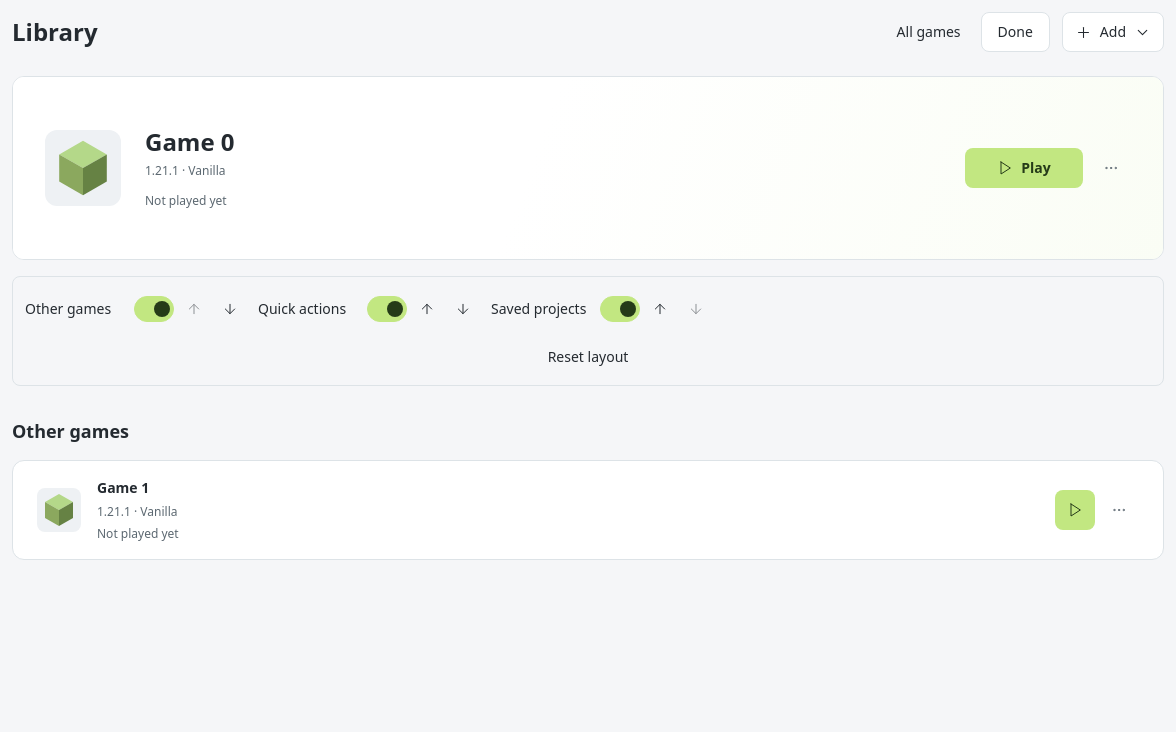
it: undoes the most recent archive without reverting the preceding group edit
Click the button with class "home-organize": point(929, 32) [889,16,969,48]
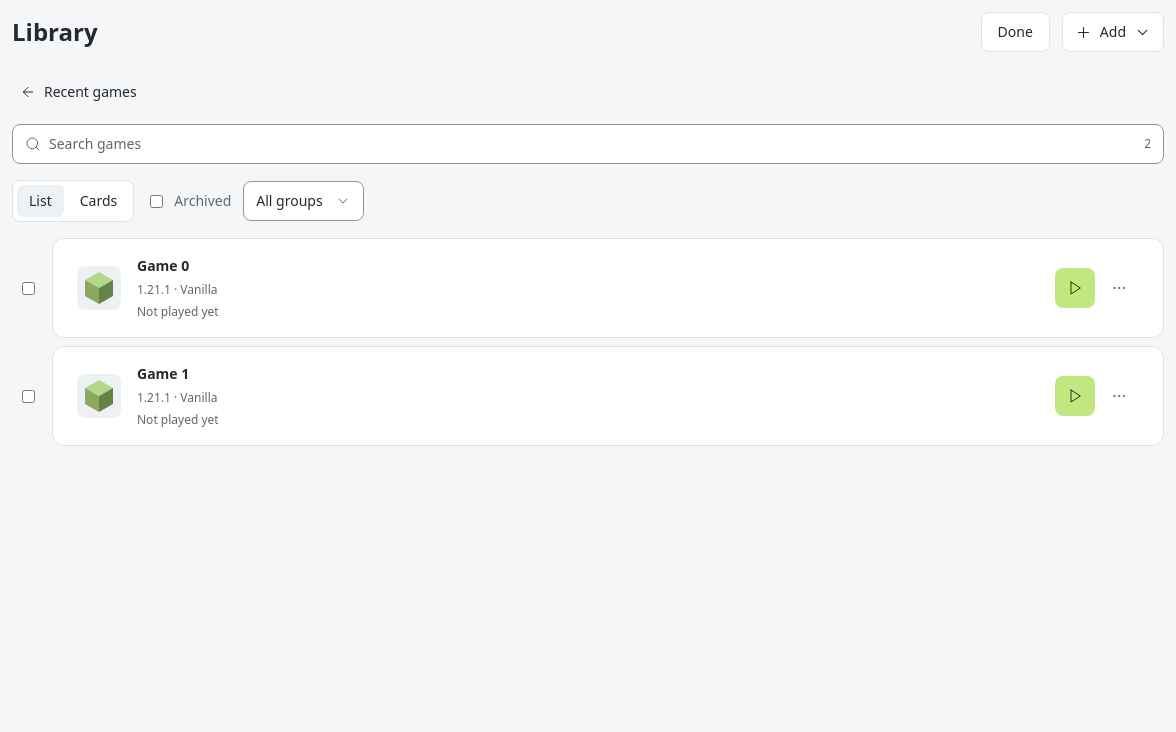
Click the checkbox named "Select Game 0": point(28, 288) [22,282,35,294]
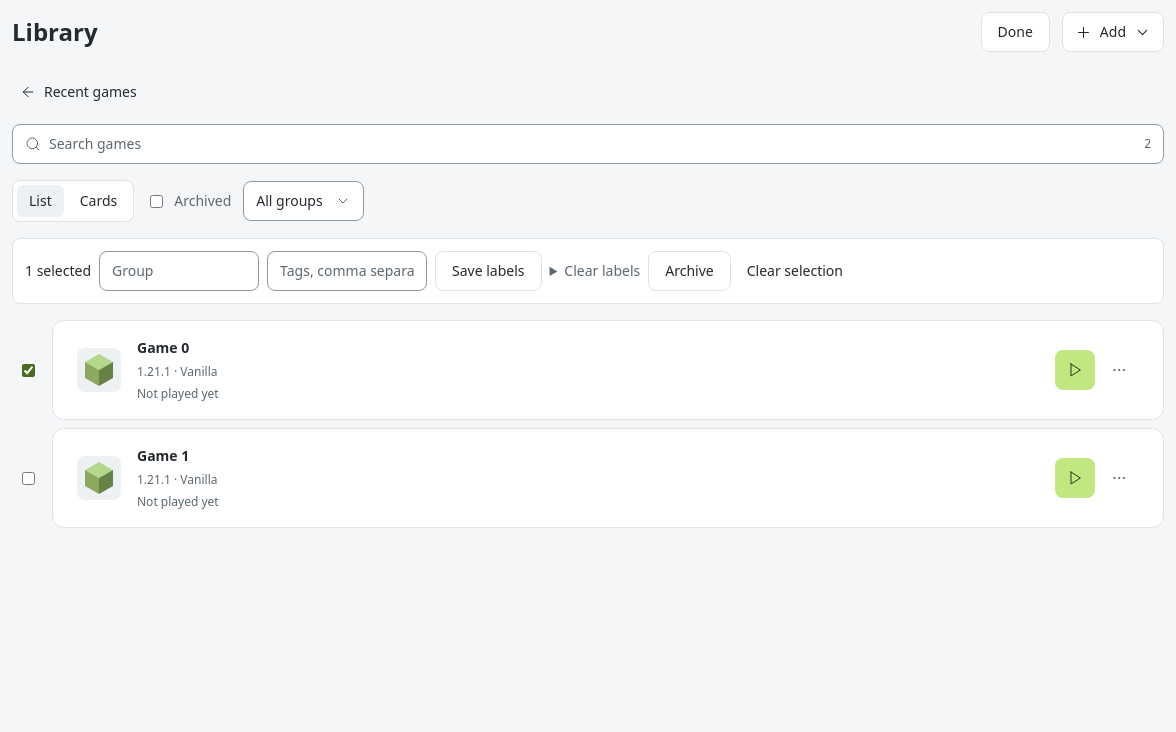
In the field named "Group": point(179, 271) [99,251,259,291], type "Friends"
Click the button with class "secondary-button" showing "Save labels": point(488, 271) [435,251,542,291]
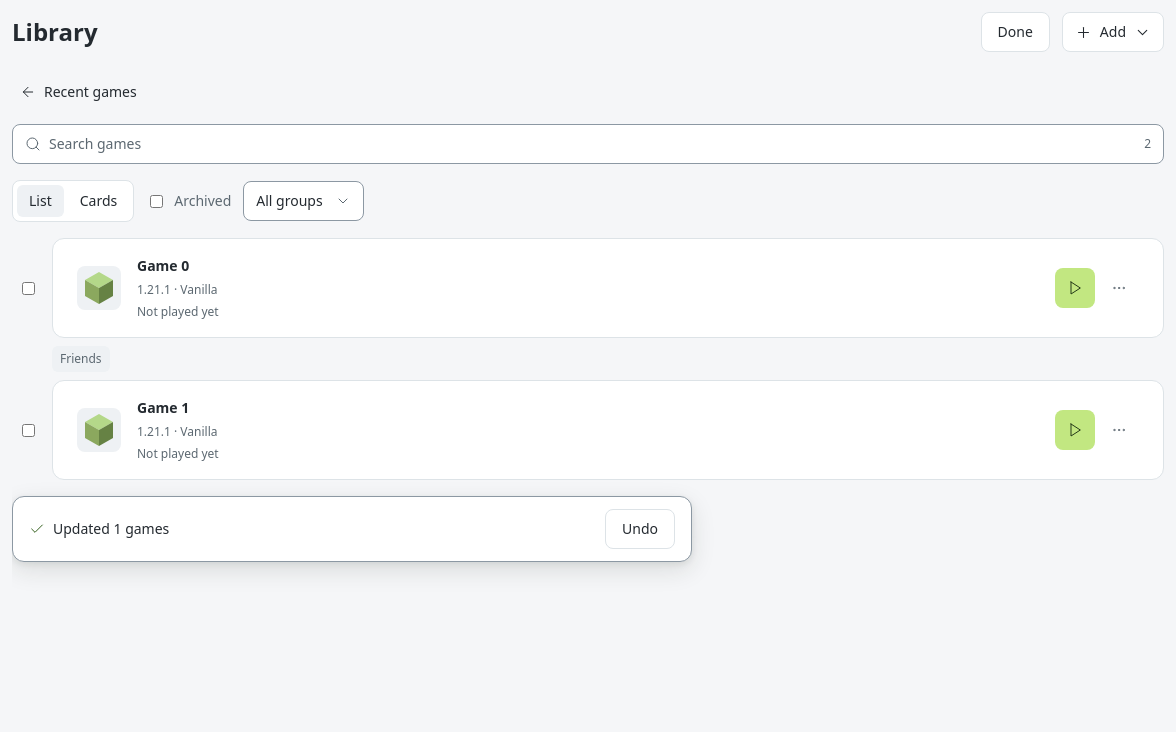
Click the checkbox named "Select Game 0": point(28, 288) [22,282,35,294]
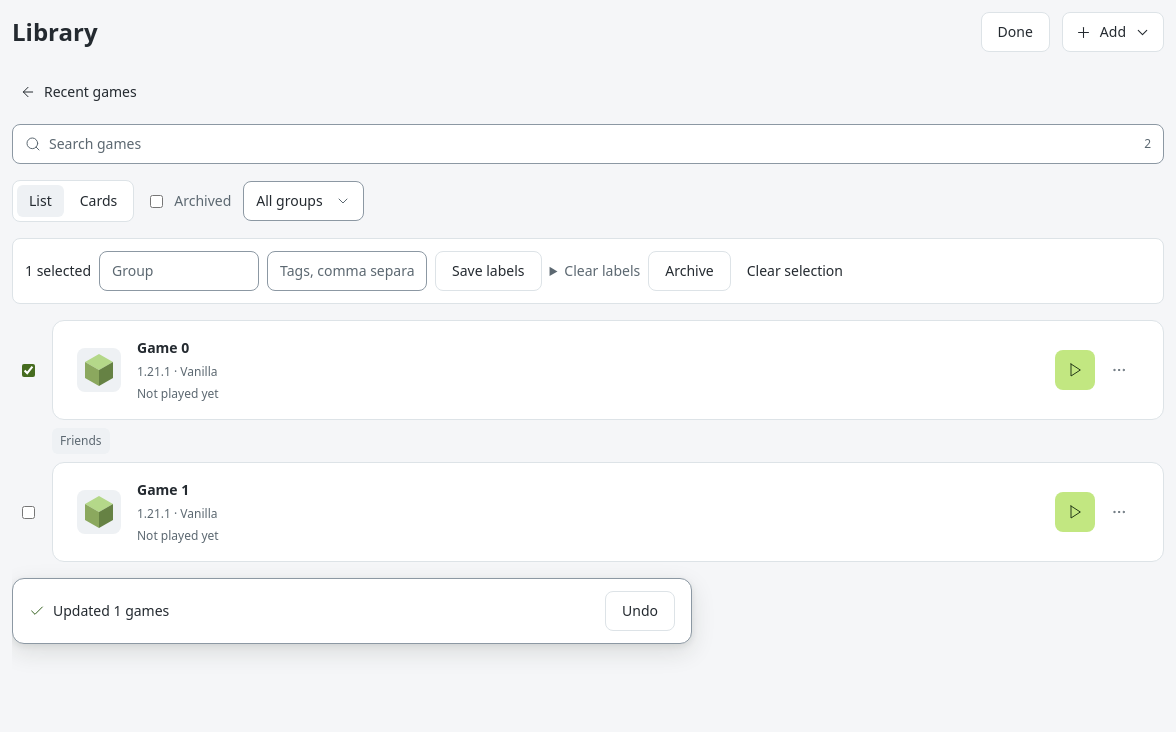
Click the button with class "secondary-button" showing "Archive": point(690, 271) [648,251,731,291]
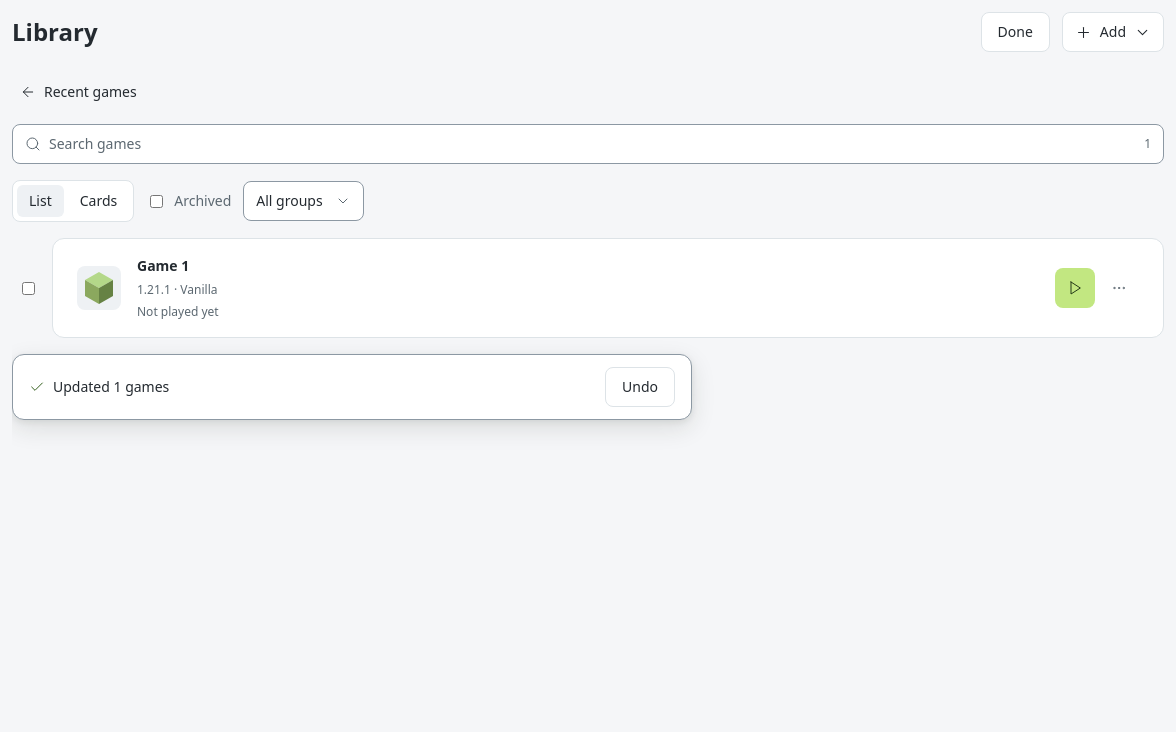
Check: the number of elements with class "game-card" is 1, box [52,238,1164,338]
Click the button "Undo": point(640, 387) [605,367,675,407]
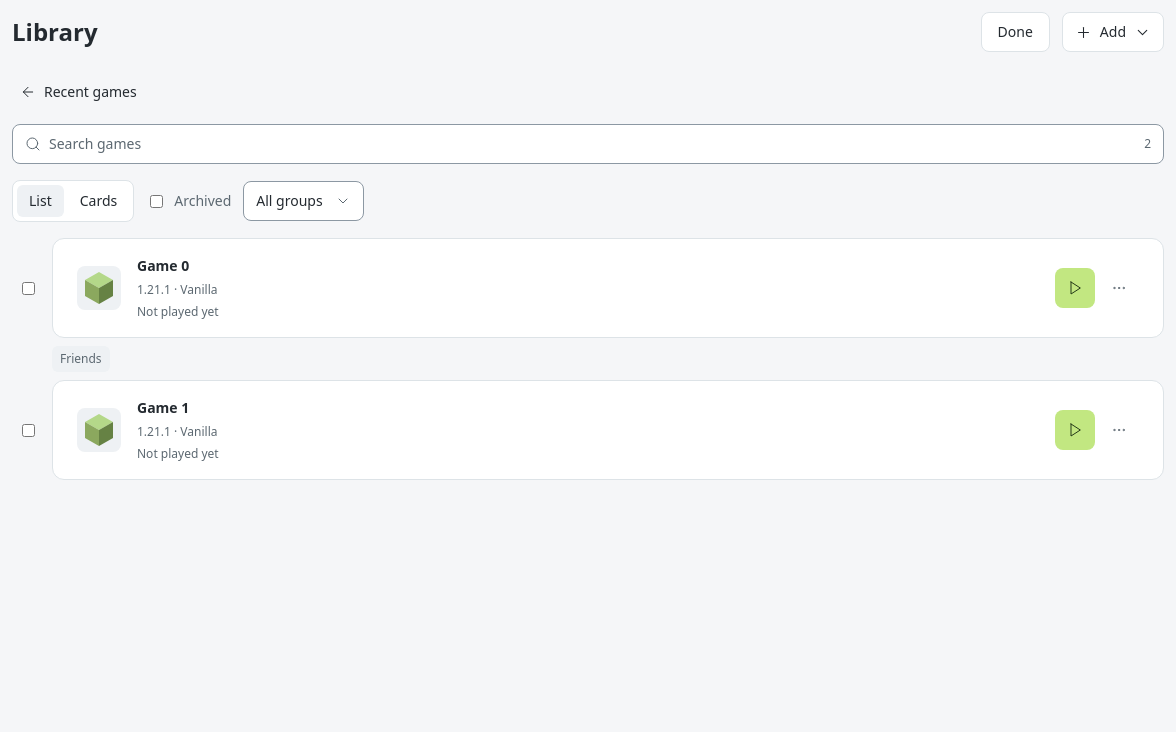
Check: the number of elements with class "game-card" is 2, box [52,238,1164,338]; [52,380,1164,480]
